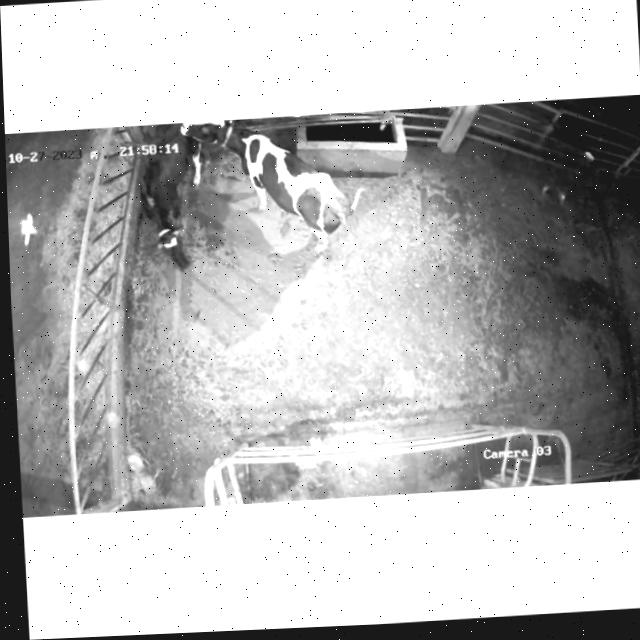propping: (158, 118, 265, 170)
